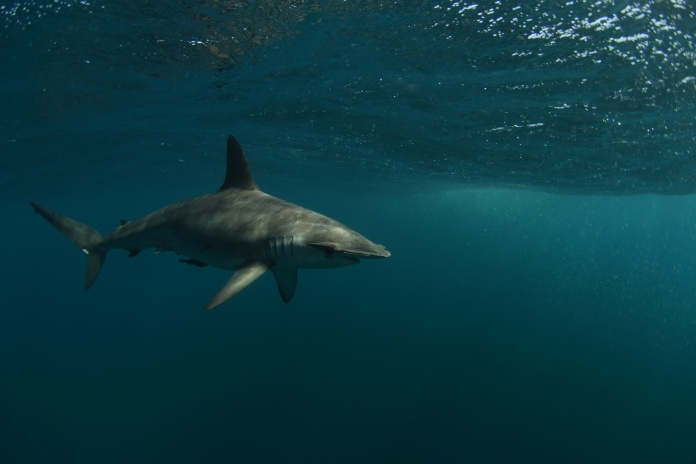Hammer: (18, 121, 461, 328)
